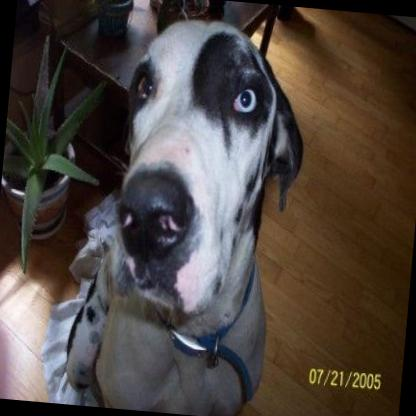Great_Dane: (55, 4, 316, 416)
